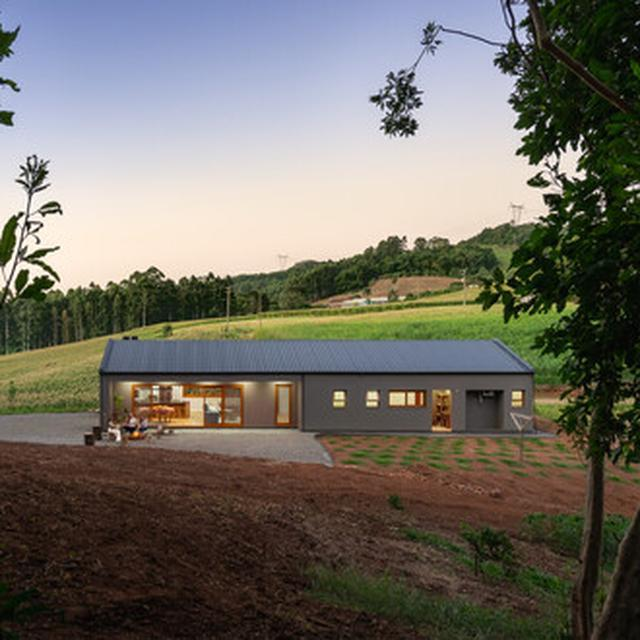building: (97, 329, 545, 438)
